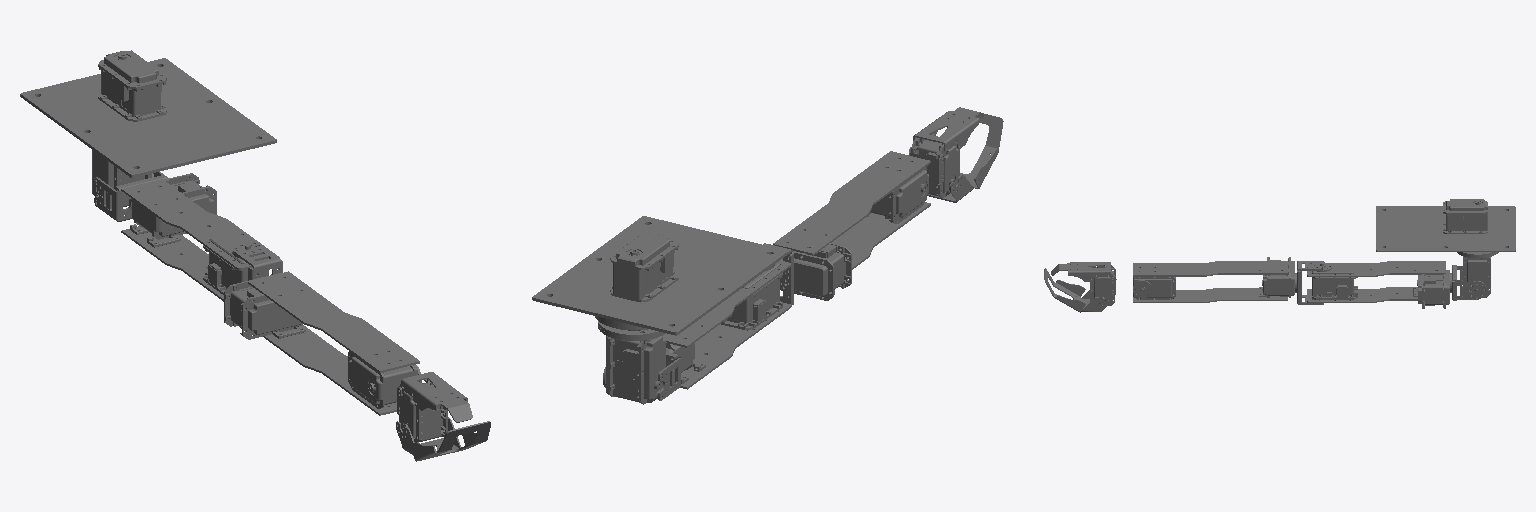
URDF robot description (romo_left_arm):
<?xml version="1.0" ?>
<!-- =================================================================================== -->
<!-- |    This document was autogenerated by xacro from romo_left_arm.xacro            | -->
<!-- |    EDITING THIS FILE BY HAND IS NOT RECOMMENDED                                 | -->
<!-- =================================================================================== -->
<!-- ROMO_Manipulator Chain -->
<robot name="romo_left_arm" xmlns:xacro="http://www.ros.org/wiki/xacro">
  <material name="black">
    <color rgba="0.0 0.0 0.0 1.0"/>
  </material>
  <material name="white">
    <color rgba="1.0 1.0 1.0 1.0"/>
  </material>
  <material name="red">
    <color rgba="0.8 0.0 0.0 1.0"/>
  </material>
  <material name="blue">
    <color rgba="0.0 0.0 0.8 1.0"/>
  </material>
  <material name="green">
    <color rgba="0.0 0.8 0.0 1.0"/>
  </material>
  <material name="grey">
    <color rgba="0.5 0.5 0.5 1.0"/>
  </material>
  <material name="orange">
    <color rgba="1.0 0.423529411765 0.0392156862745 1.0"/>
  </material>
  <material name="brown">
    <color rgba="0.870588235294 0.811764705882 0.764705882353 1.0"/>
  </material>
  <!-- World -->
  <link name="left_base">
  </link>
  <!-- World fixed joint-->
  <joint name="left_fixed" type="fixed">
    <origin rpy="0 0 0" xyz="0 0 0"/>
    <parent link="left_base"/>
    <child link="link1"/>
  </joint>
  <!-- Link 1 -->
  <link name="link1">
    <collision>
      <origin rpy="0 0 0" xyz="0.0 0.0 0.0"/>
      <geometry>
        <mesh filename="package://romo_ros/meshes/left_chain_link1.stl"/>
      </geometry>
    </collision>
    <visual>
      <origin rpy="0 0 0" xyz="0.0 0.0 0.0"/>
      <geometry>
        <mesh filename="package://romo_ros/meshes/left_chain_link1.stl"/>
      </geometry>
      <material name="grey"/>
    </visual>
    <inertial>
      <origin xyz="0 0 0.0"/>
      <mass value="1"/>
      <inertia ixx="0.001" ixy="0.0" ixz="0.0" iyy="0.001" iyz="0.0" izz="0.001"/>
    </inertial>
  </link>
  <!-- Joint 1 -->
  <joint name="joint1" type="revolute">
    <parent link="link1"/>
    <child link="link2"/>
    <origin rpy="0 0 0" xyz="0.0 0.048 -0.026"/>
    <axis xyz="0 0 1"/>
    <limit effort="1000" lower="-2.8274333886" upper="2.8274333886" velocity="6.5"/>
  </joint>
  <!-- Transmission 1 -->
  <transmission name="tran1">
    <type>transmission_interface/SimpleTransmission</type>
    <joint name="joint1">
      <hardwareInterface>PositionJointInterface</hardwareInterface>
    </joint>
    <actuator name="motor1">
      <hardwareInterface>PositionJointInterface</hardwareInterface>
      <mechanicalReduction>1</mechanicalReduction>
    </actuator>
  </transmission>
  <!--  Link 2 -->
  <link name="link2">
    <collision>
      <origin rpy="0 0 0" xyz="0.0 -0.048 0.026"/>
      <geometry>
        <mesh filename="package://romo_ros/meshes/left_chain_link2.stl"/>
      </geometry>
    </collision>
    <visual>
      <origin rpy="0 0 0" xyz="0.0 -0.048 0.026"/>
      <geometry>
        <mesh filename="package://romo_ros/meshes/left_chain_link2.stl"/>
      </geometry>
      <material name="grey"/>
    </visual>
    <inertial>
      <origin xyz="0 -0.048 0.026"/>
      <mass value="0.5"/>
      <inertia ixx="0.001" ixy="0.0" ixz="0.0" iyy="0.001" iyz="0.0" izz="0.001"/>
    </inertial>
  </link>
  <!--  Joint 2 -->
  <joint name="joint2" type="revolute">
    <parent link="link2"/>
    <child link="link3"/>
    <origin rpy="0 0 0" xyz="0.0 -0.032 -0.027"/>
    <axis xyz="1 0 0"/>
    <limit effort="1000" lower="-2.8274333886" upper="2.8274333886" velocity="6.5"/>
  </joint>
  <!-- Transmission 2 -->
  <transmission name="tran2">
    <type>transmission_interface/SimpleTransmission</type>
    <joint name="joint2">
      <hardwareInterface>PositionJointInterface</hardwareInterface>
    </joint>
    <actuator name="motor2">
      <hardwareInterface>PositionJointInterface</hardwareInterface>
      <mechanicalReduction>1</mechanicalReduction>
    </actuator>
  </transmission>
  <!--  Link 3 -->
  <link name="link3">
    <collision>
      <origin rpy="0 0 0" xyz="0.0 -0.016 0.053"/>
      <geometry>
        <mesh filename="package://romo_ros/meshes/left_chain_link3.stl"/>
      </geometry>
    </collision>
    <visual>
      <origin rpy="0 0 0" xyz="0.0 -0.016 0.053"/>
      <geometry>
        <mesh filename="package://romo_ros/meshes/left_chain_link3.stl"/>
      </geometry>
      <material name="grey"/>
    </visual>
    <inertial>
      <origin xyz="0 -0.016 0.053"/>
      <mass value="0.5"/>
      <inertia ixx="0.001" ixy="0.0" ixz="0.0" iyy="0.001" iyz="0.0" izz="0.001"/>
    </inertial>
  </link>
  <!--  Joint 3 -->
  <joint name="joint3" type="revolute">
    <parent link="link3"/>
    <child link="link4"/>
    <origin rpy="0 0 0" xyz="0.0 -0.034 0.0"/>
    <axis xyz="0 -1 0"/>
    <limit effort="1000" lower="-2.8274333886" upper="2.8274333886" velocity="6.5"/>
  </joint>
  <!-- Transmission 3 -->
  <transmission name="tran3">
    <type>transmission_interface/SimpleTransmission</type>
    <joint name="joint3">
      <hardwareInterface>PositionJointInterface</hardwareInterface>
    </joint>
    <actuator name="motor3">
      <hardwareInterface>PositionJointInterface</hardwareInterface>
      <mechanicalReduction>1</mechanicalReduction>
    </actuator>
  </transmission>
  <!--  Link 4 -->
  <link name="link4">
    <collision>
      <origin rpy="0 0 0" xyz="0.0 0.018 0.053"/>
      <geometry>
        <mesh filename="package://romo_ros/meshes/left_chain_link4.stl"/>
      </geometry>
    </collision>
    <visual>
      <origin rpy="0 0 0" xyz="0.0 0.018 0.053"/>
      <geometry>
        <mesh filename="package://romo_ros/meshes/left_chain_link4.stl"/>
      </geometry>
      <material name="grey"/>
    </visual>
    <inertial>
      <origin xyz="0.0 0.018 0.053"/>
      <mass value="0.4"/>
      <inertia ixx="0.001" ixy="0.0" ixz="0.0" iyy="0.001" iyz="0.0" izz="0.001"/>
    </inertial>
  </link>
  <!--  Joint 4 -->
  <joint name="joint4" type="revolute">
    <parent link="link4"/>
    <child link="link5"/>
    <origin rpy="0 0 0" xyz="0.0 -0.187 0.0"/>
    <axis xyz="0 0 1"/>
    <limit effort="1000" lower="-2.8274333886" upper="2.8274333886" velocity="6.5"/>
  </joint>
  <!-- Transmission 4 -->
  <transmission name="tran4">
    <type>transmission_interface/SimpleTransmission</type>
    <joint name="joint4">
      <hardwareInterface>PositionJointInterface</hardwareInterface>
    </joint>
    <actuator name="motor4">
      <hardwareInterface>PositionJointInterface</hardwareInterface>
      <mechanicalReduction>1</mechanicalReduction>
    </actuator>
  </transmission>
  <!--  Link 5 -->
  <link name="link5">
    <collision>
      <origin rpy="0 0 0" xyz="0.0 0.205 0.053"/>
      <geometry>
        <mesh filename="package://romo_ros/meshes/left_chain_link5.stl"/>
      </geometry>
    </collision>
    <visual>
      <origin rpy="0 0 0" xyz="0.0 0.205 0.053"/>
      <geometry>
        <mesh filename="package://romo_ros/meshes/left_chain_link5.stl"/>
      </geometry>
      <material name="grey"/>
    </visual>
    <inertial>
      <origin xyz="0 0.205 0.053"/>
      <mass value="0.4"/>
      <inertia ixx="0.001" ixy="0.0" ixz="0.0" iyy="0.001" iyz="0.0" izz="0.001"/>
    </inertial>
  </link>
  <!--  Joint 5 -->
  <joint name="joint5" type="revolute">
    <parent link="link5"/>
    <child link="link6"/>
    <origin rpy="0 0 0" xyz="0.036 0.0 0.0"/>
    <axis xyz="1 0 0"/>
    <limit effort="1000" lower="-2.8274333886" upper="2.8274333886" velocity="6.5"/>
  </joint>
  <!-- Transmission 5 -->
  <transmission name="tran5">
    <type>transmission_interface/SimpleTransmission</type>
    <joint name="joint5">
      <hardwareInterface>PositionJointInterface</hardwareInterface>
    </joint>
    <actuator name="motor5">
      <hardwareInterface>PositionJointInterface</hardwareInterface>
      <mechanicalReduction>1</mechanicalReduction>
    </actuator>
  </transmission>
  <!--  Link 6 -->
  <link name="link6">
    <collision>
      <origin rpy="0 0 0" xyz="-0.036 0.205 0.053"/>
      <geometry>
        <mesh filename="package://romo_ros/meshes/left_chain_link6.stl"/>
      </geometry>
    </collision>
    <visual>
      <origin rpy="0 0 0" xyz="-0.036 0.205 0.053"/>
      <geometry>
        <mesh filename="package://romo_ros/meshes/left_chain_link6.stl"/>
      </geometry>
      <material name="grey"/>
    </visual>
    <inertial>
      <origin xyz="-0.036 0.205 0.053"/>
      <mass value="0.4"/>
      <inertia ixx="0.001" ixy="0.0" ixz="0.0" iyy="0.001" iyz="0.0" izz="0.001"/>
    </inertial>
  </link>
  <!--  Joint 6 -->
  <joint name="joint6" type="revolute">
    <parent link="link6"/>
    <child link="link7"/>
    <origin rpy="0 0 0" xyz="0.22 0.0 0.0"/>
    <axis xyz="0 1 0"/>
    <limit effort="1000" lower="-2.8274333886" upper="2.8274333886" velocity="6.5"/>
  </joint>
  <!-- Transmission 6 -->
  <transmission name="tran6">
    <type>transmission_interface/SimpleTransmission</type>
    <joint name="joint6">
      <hardwareInterface>PositionJointInterface</hardwareInterface>
    </joint>
    <actuator name="motor6">
      <hardwareInterface>PositionJointInterface</hardwareInterface>
      <mechanicalReduction>1</mechanicalReduction>
    </actuator>
  </transmission>
  <!--  Link 7 -->
  <link name="link7">
    <collision>
      <origin rpy="0 0 0" xyz="-0.256 0.205 0.053"/>
      <geometry>
        <mesh filename="package://romo_ros/meshes/left_chain_gripper_fix.stl"/>
      </geometry>
    </collision>
    <visual>
      <origin rpy="0 0 0" xyz="-0.256 0.205 0.053"/>
      <geometry>
        <mesh filename="package://romo_ros/meshes/left_chain_gripper_fix.stl"/>
      </geometry>
      <material name="grey"/>
    </visual>
    <inertial>
      <origin xyz="-0.256 0.205 0.053"/>
      <mass value="0.4"/>
      <inertia ixx="0.001" ixy="0.0" ixz="0.0" iyy="0.001" iyz="0.0" izz="0.001"/>
    </inertial>
  </link>
  <!--  grip_joint -->
  <joint name="grip_joint" type="revolute">
    <parent link="link7"/>
    <child link="grip_link"/>
    <origin rpy="0 0 0" xyz="0.06 0.0 -0.015"/>
    <axis xyz="0 1 0"/>
    <limit effort="1000" lower="-2.8274333886" upper="2.8274333886" velocity="6.5"/>
  </joint>
  <!--  Grip link -->
  <link name="grip_link">
    <collision>
      <origin rpy="0 0 0" xyz="-0.316 0.205 0.068"/>
      <geometry>
        <mesh filename="package://romo_ros/meshes/left_chain_gripper_move.stl"/>
      </geometry>
    </collision>
    <visual>
      <origin rpy="0 0 0" xyz="-0.316 0.205 0.068"/>
      <geometry>
        <mesh filename="package://romo_ros/meshes/left_chain_gripper_move.stl"/>
      </geometry>
      <material name="grey"/>
    </visual>
    <inertial>
      <origin xyz="-0.316 0.205 0.068"/>
      <mass value="0.2"/>
      <inertia ixx="0.001" ixy="0.0" ixz="0.0" iyy="0.001" iyz="0.0" izz="0.001"/>
    </inertial>
  </link>
  <!--  Grip joint -->
  <!--<joint name="grip_joint" type="revolute">
    <parent link="link7"/>
    <child link="grip_link"/>
    <origin xyz="0.0 0.0 0.0" rpy="0 0 0"/>
    <axis xyz="1 0 0"/>
    <limit velocity="6.5" effort="1000" lower="${-pi*0.9}" upper="${pi*0.9}" />
  </joint>-->
  <!-- Transmission 5 -->
  <!--<transmission name="tran5">
    <type>transmission_interface/SimpleTransmission</type>
    <joint name="grip_joint">
      <hardwareInterface>PositionJointInterface</hardwareInterface>
    </joint>
    <actuator name="motor7">
      <hardwareInterface>PositionJointInterface</hardwareInterface>
      <mechanicalReduction>1</mechanicalReduction>
    </actuator>
  </transmission>-->
  <!--  Grip link sub -->
  <!--<link name="grip_link_sub">
    <collision>
      <origin xyz="0 -0.047 0" rpy="0 0 0"/>
      <geometry>
        <mesh filename="package://romo_ros/meshes/left_chain_link_grip_r.stl" scale="0.001 0.001 0.001"/>
      </geometry>
    </collision>

    <visual>
      <origin xyz="0 -0.047 0" rpy="0 0 0"/>
      <geometry>
        <mesh filename="package://romo_ros/meshes/left_chain_link_grip_r.stl" scale="0.001 0.001 0.001"/>
      </geometry>
      <material name="grey"/>
    </visual>

    <inertial>
      <origin xyz="0 0 0" />
      <mass value="0.01" />
      <inertia ixx="0.001" ixy="0.0" ixz="0.0"
               iyy="0.001" iyz="0.0"
               izz="0.001" />
    </inertial>
  </link>
  -->
  <!--  Grip joint sub -->
  <!--<joint name="grip_joint_sub" type="prismatic">
    <parent link="link5"/>
    <child link="grip_link_sub"/>
    <origin xyz="0.071 0.0 0" rpy="0 0 0"/>
    <axis xyz="0 1 0"/>
    <limit velocity="6.5" effort="1000" lower="-0.01" upper="0.035" />
  </joint>
  -->
  <!-- Transmission 6 -->
  <!--<transmission name="tran6">
    <type>transmission_interface/SimpleTransmission</type>
    <joint name="grip_joint_sub">
      <hardwareInterface>PositionJointInterface</hardwareInterface>
    </joint>
    <actuator name="motor8">
      <hardwareInterface>PositionJointInterface</hardwareInterface>
      <mechanicalReduction>1</mechanicalReduction>
    </actuator>
  </transmission>
  -->
</robot>

--- Facts derived from the render (not from the file) ---
Views: 3 orthographic renders of the robot side by side, from view 1: azimuth 30°, elevation 25°; view 2: azimuth 150°, elevation 25°; view 3: azimuth 270°, elevation 25°.
Model romo_left_arm with 9 links and 8 joints (7 revolute, 1 fixed), rooted at left_base, posed every joint at zero.
Visible links, largest first — view 1: link1, link6, link4, link7, grip_link, link3, link2, link5; view 2: link1, link6, link4, link2, link7, grip_link, link3, link5; view 3: link1, link6, link4, link7, grip_link, link2, link3.
Boxes of the visible links, x1=… form: link1: x1=20, y1=50, x2=276, y2=177; link6: x1=224, y1=271, x2=421, y2=415; link4: x1=121, y1=173, x2=279, y2=301; link7: x1=397, y1=372, x2=472, y2=442; grip_link: x1=396, y1=417, x2=490, y2=461; link3: x1=94, y1=172, x2=168, y2=221; link2: x1=92, y1=150, x2=153, y2=206; link5: x1=233, y1=244, x2=282, y2=280; link1: x1=532, y1=216, x2=787, y2=340; link6: x1=773, y1=151, x2=930, y2=300; link4: x1=663, y1=260, x2=790, y2=389; link2: x1=603, y1=336, x2=665, y2=404; link7: x1=909, y1=107, x2=983, y2=198; grip_link: x1=927, y1=113, x2=1003, y2=202; link3: x1=658, y1=352, x2=680, y2=400; link5: x1=763, y1=243, x2=793, y2=306; link1: x1=1376, y1=199, x2=1515, y2=257; link6: x1=1133, y1=257, x2=1296, y2=302; link4: x1=1307, y1=261, x2=1454, y2=308; link7: x1=1051, y1=262, x2=1116, y2=305; grip_link: x1=1044, y1=268, x2=1110, y2=312; link2: x1=1463, y1=256, x2=1490, y2=298; link3: x1=1452, y1=265, x2=1478, y2=300.
Bounding box of the posed robot: 0.15 × 0.6751 × 0.1651 m (x, y, z).
Meshes: 8 distinct files referenced, 8 mesh visuals loaded (8 binary STL).
